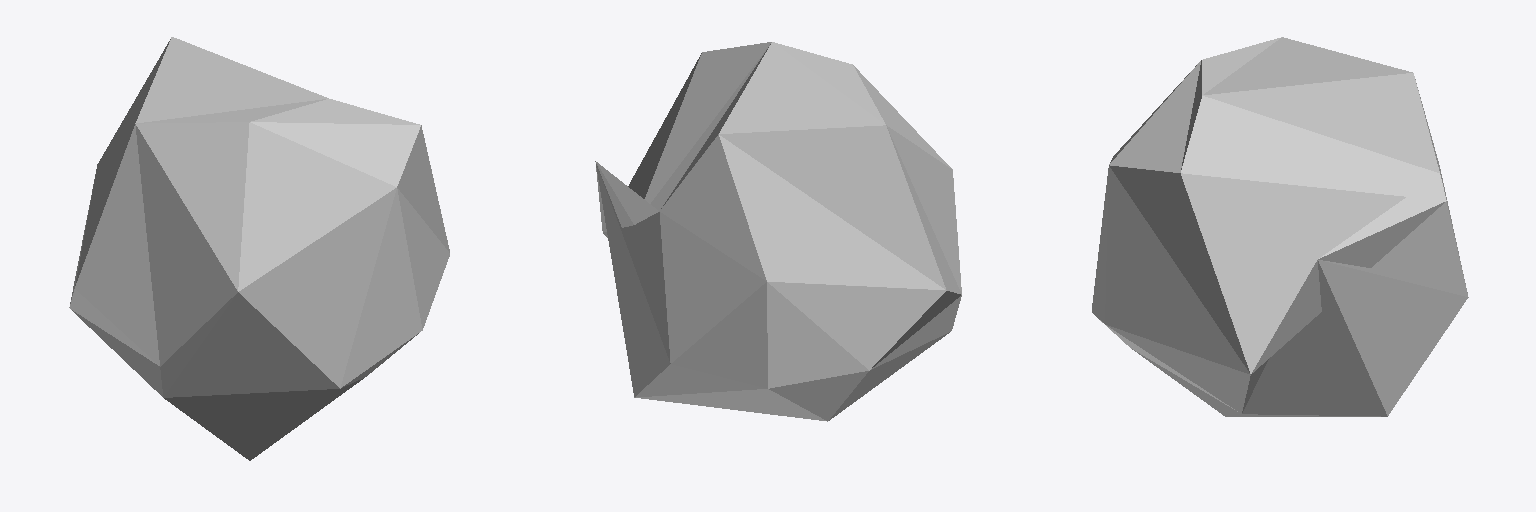
Rendered from rock2.obj.
3 views of the same model, side by side, from view 1: azimuth 30°, elevation 25°; view 2: azimuth 150°, elevation 25°; view 3: azimuth 270°, elevation 25° (orthographic).
Visible parts, largest first — view 1: Cube2_copy48; view 2: Cube2_copy48; view 3: Cube2_copy48.
Boxes of the visible parts, box(x1,y1,x2,y2) form: Cube2_copy48: box(69, 37, 449, 460); Cube2_copy48: box(595, 42, 961, 421); Cube2_copy48: box(1092, 37, 1468, 416).
Size of the model in its own units: 0.4143 by 0.3902 by 0.376.